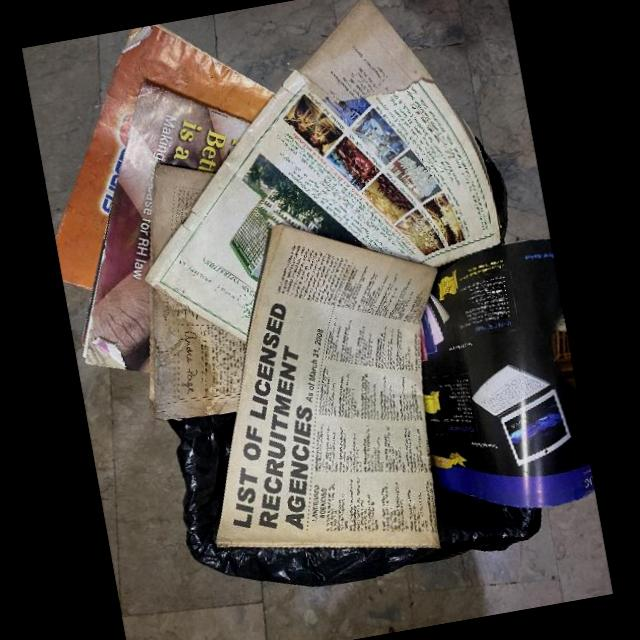giay: (144, 0, 500, 342), (215, 223, 441, 549), (55, 24, 276, 289), (80, 80, 251, 372), (419, 238, 595, 509), (147, 282, 246, 420), (146, 164, 216, 275)
